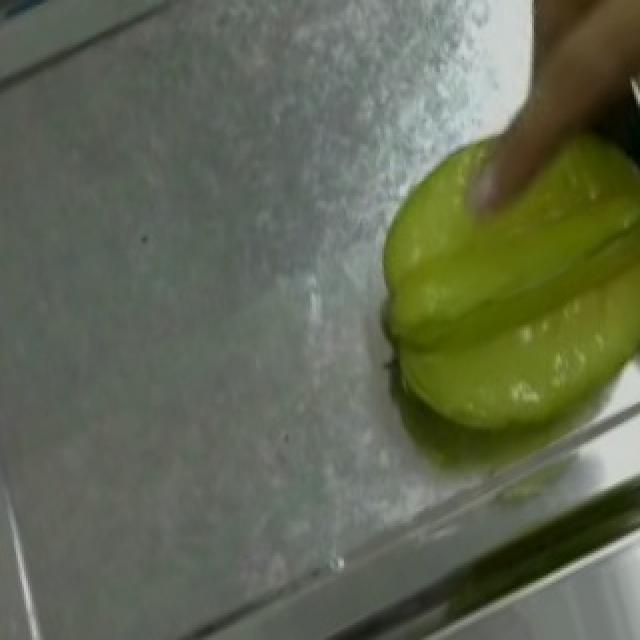fruit: (350, 99, 640, 511)
